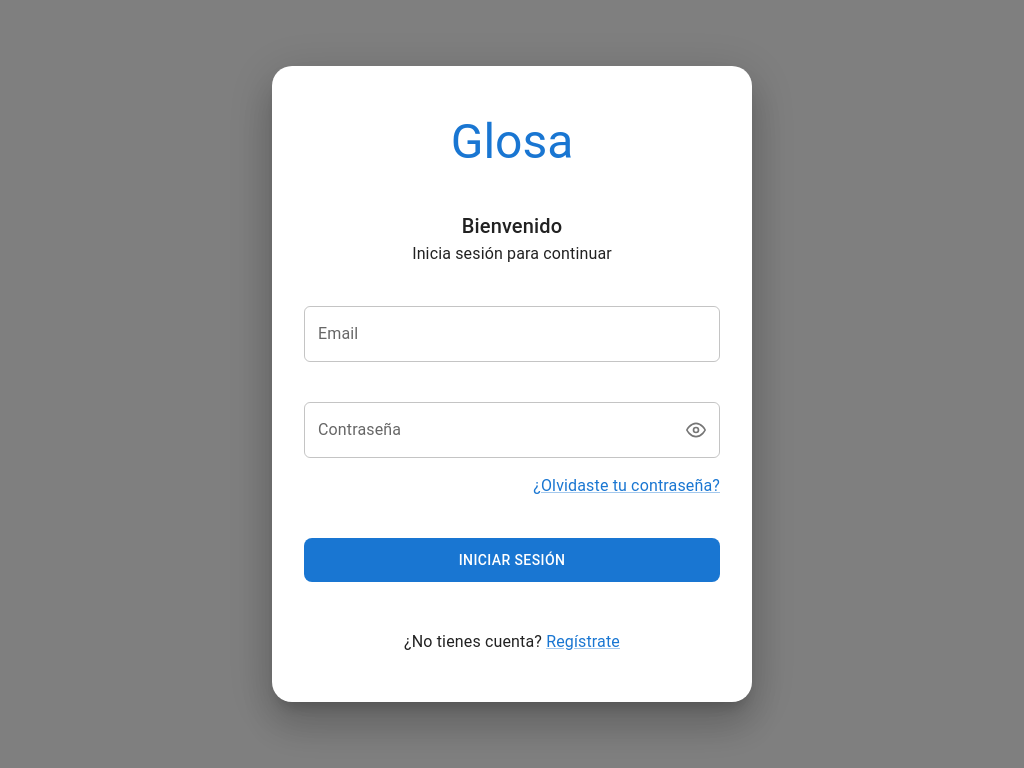
Test: Given the login page › When the user submits an empty form › Then both fields show an error and no request is sent
The width and height of the screenshot is (1024, 768).
Click the button "Iniciar sesión" at (512, 560), box [304,538,720,582]
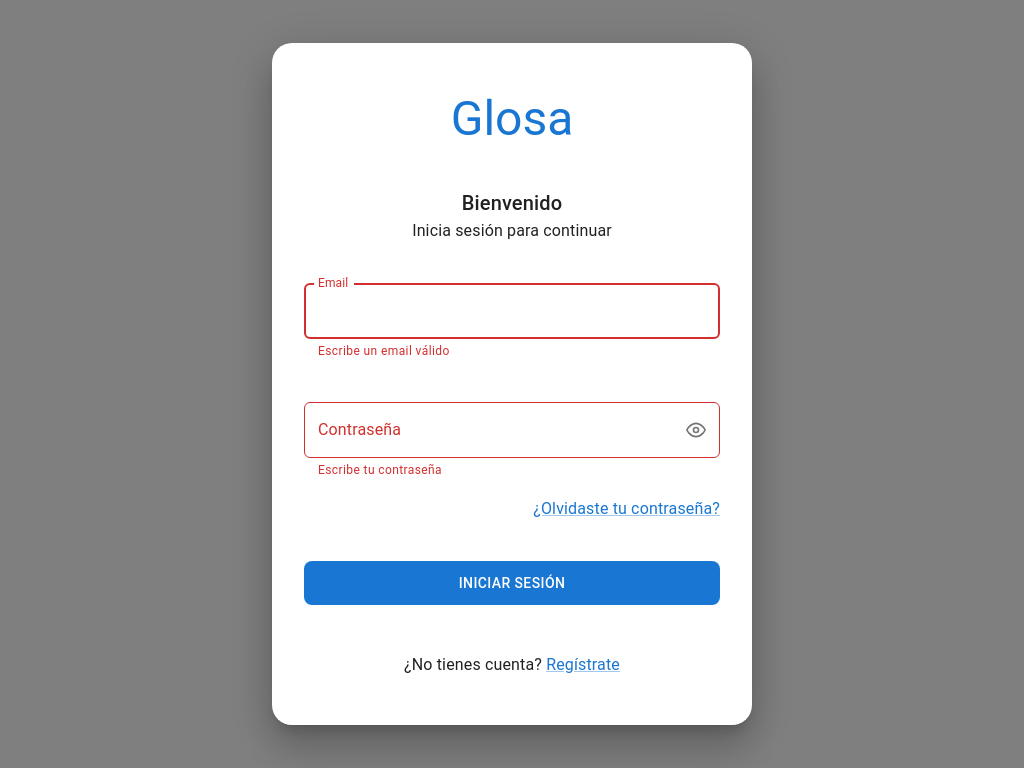
Now the text "Escribe un email válido" is shown, box [318,344,450,358]
Now the text "Escribe tu contraseña" is shown, box [318,463,442,477]
